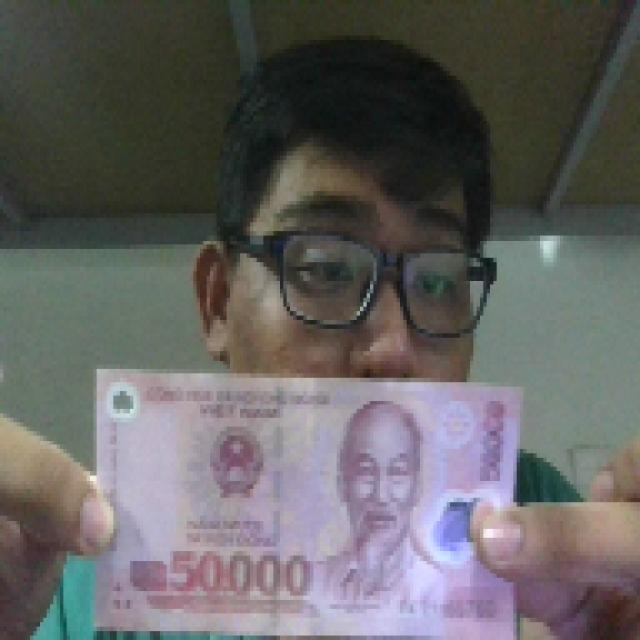50 000 VND: (90, 360, 527, 636)
